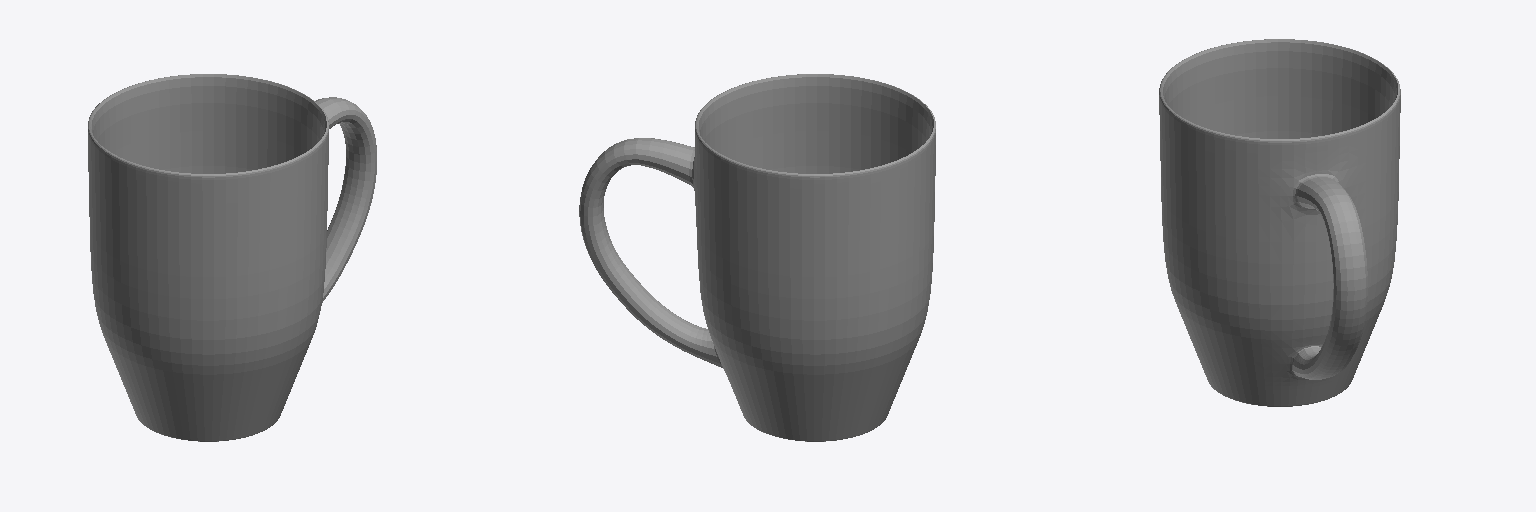
File: mug.obj
3 views of the same model, side by side, from view 1: azimuth 30°, elevation 25°; view 2: azimuth 150°, elevation 25°; view 3: azimuth 270°, elevation 25° (orthographic).
Parts seen in each view (by area): view 1: mug_Cylinder; view 2: mug_Cylinder; view 3: mug_Cylinder.
Boxes of the visible parts, <box> form: mug_Cylinder: <box>88,74,376,441</box>; mug_Cylinder: <box>579,74,935,441</box>; mug_Cylinder: <box>1159,39,1400,406</box>.
Size of the model in its own units: 3.01 by 2.71 by 2.07.